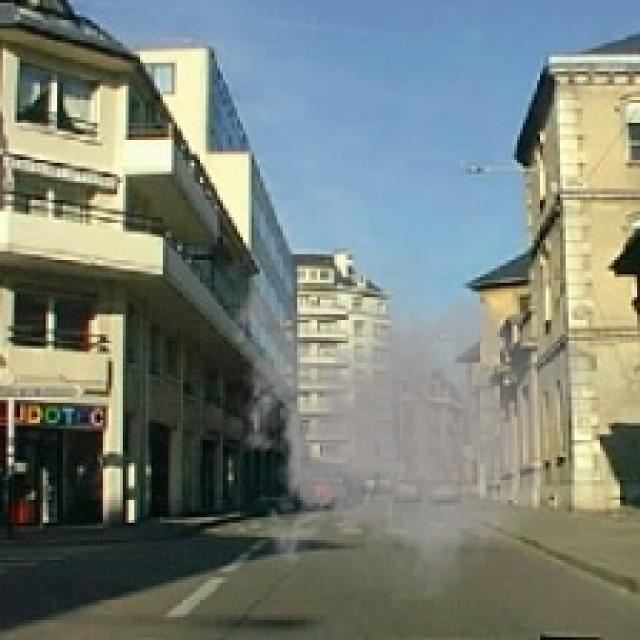Smoke: (222, 231, 588, 620)
